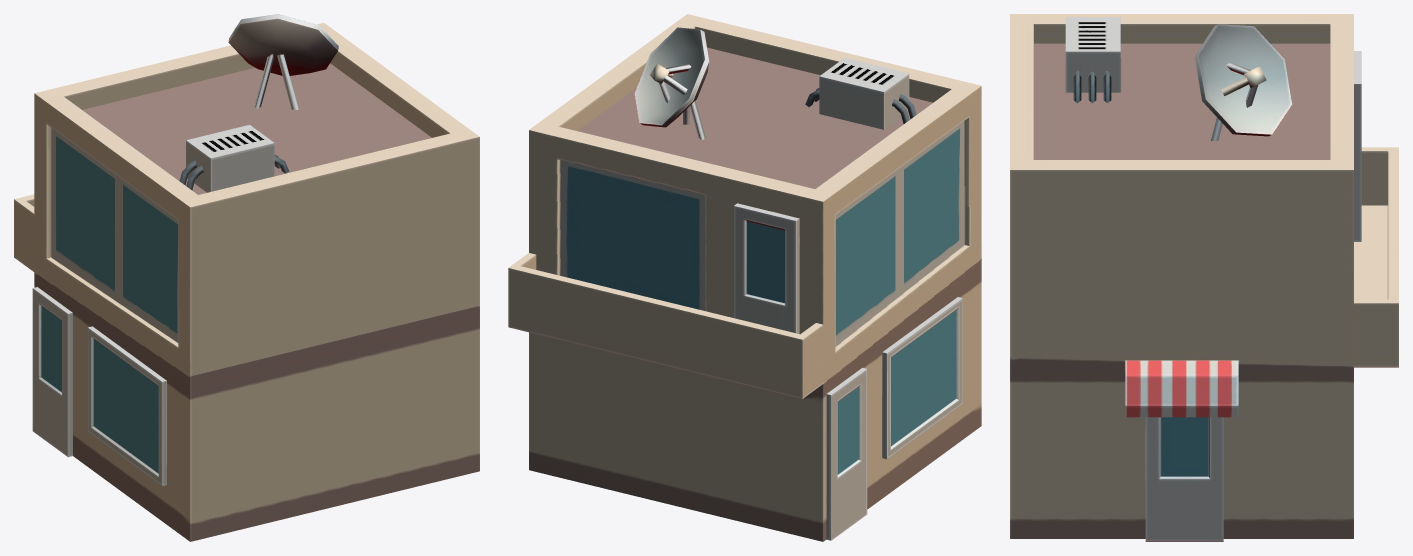
File: Apartment.glb
3 renders of one model, left to right at view 1: azimuth 30°, elevation 25°; view 2: azimuth 150°, elevation 25°; view 3: azimuth 270°, elevation 25°, orthographic. The views are drawn at different scales.
Parts seen in each view (by area): view 1: Plane003; view 2: Plane003; view 3: Plane003.
Part boxes in pixels (box(x1,y1,x2,y2)): Plane003: box(14, 14, 479, 541); Plane003: box(508, 14, 981, 541); Plane003: box(1010, 14, 1398, 541).
Size of the model in its own units: 2.62 by 3.2 by 2.47.
1 material, 1 textured.
